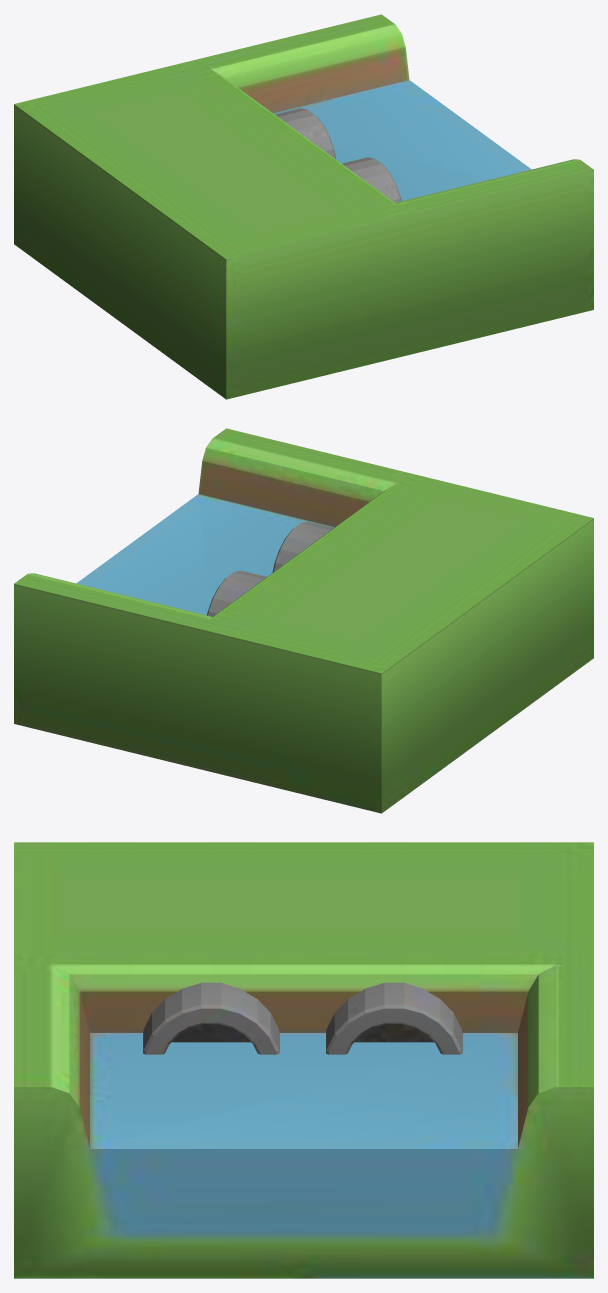
File: creek_bridge.glb
3 renders of one model, top to bottom at view 1: azimuth 30°, elevation 25°; view 2: azimuth 150°, elevation 25°; view 3: azimuth 270°, elevation 25°, orthographic. The views are drawn at different scales.
Visible parts, largest first — view 1: creek_bridge; view 2: creek_bridge; view 3: creek_bridge.
Part boxes in pixels (<box>): creek_bridge: <box>14,14,593,399</box>; creek_bridge: <box>14,428,593,813</box>; creek_bridge: <box>14,842,593,1278</box>.
Size of the model in its own units: 2 by 0.7285 by 2.
1 material, 1 textured.
